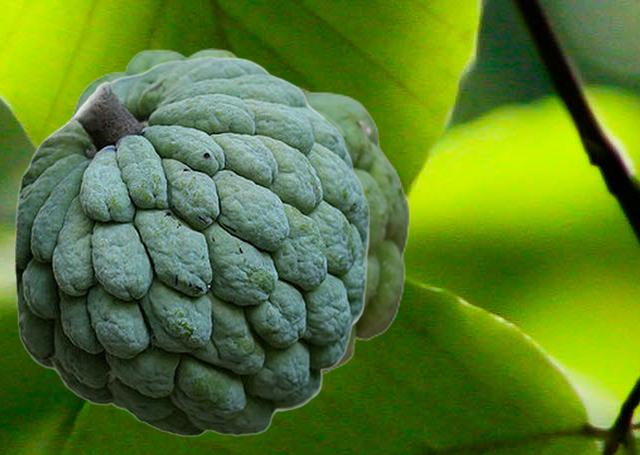atis: (14, 56, 369, 436), (67, 48, 409, 377)
